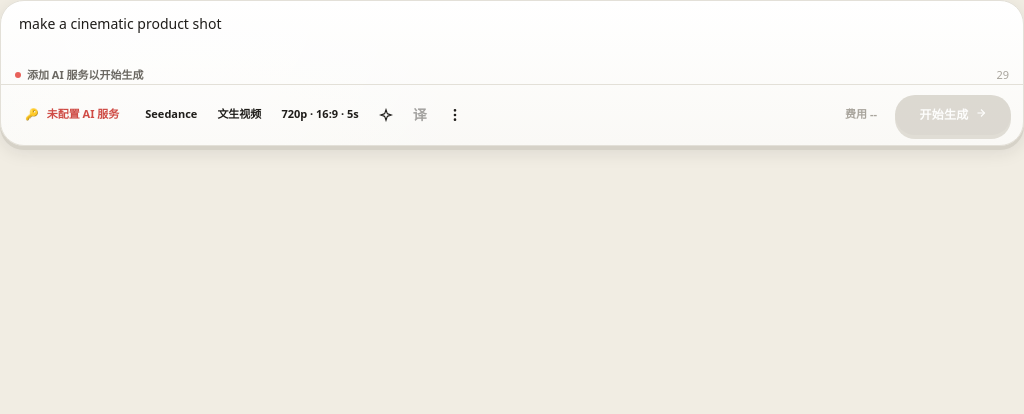
Test: PromptBar media attachments › shows Seedance video controls for Seedance models
Click the button titled "生成参数": x=320, y=114 [275,100,365,128]
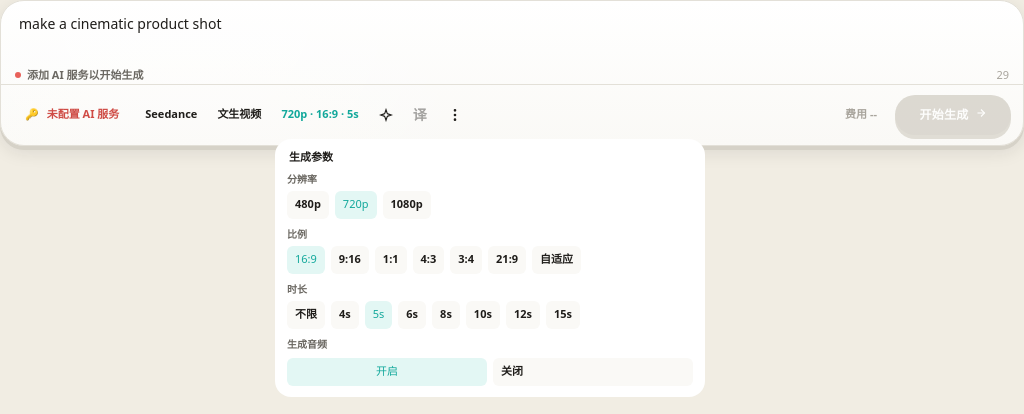
Now the text "生成音频" is shown, box [287,336,327,350]
